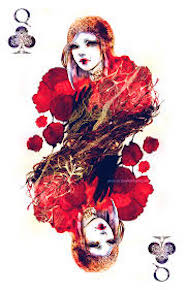QueenOfClubs: (1, 2, 186, 289)
